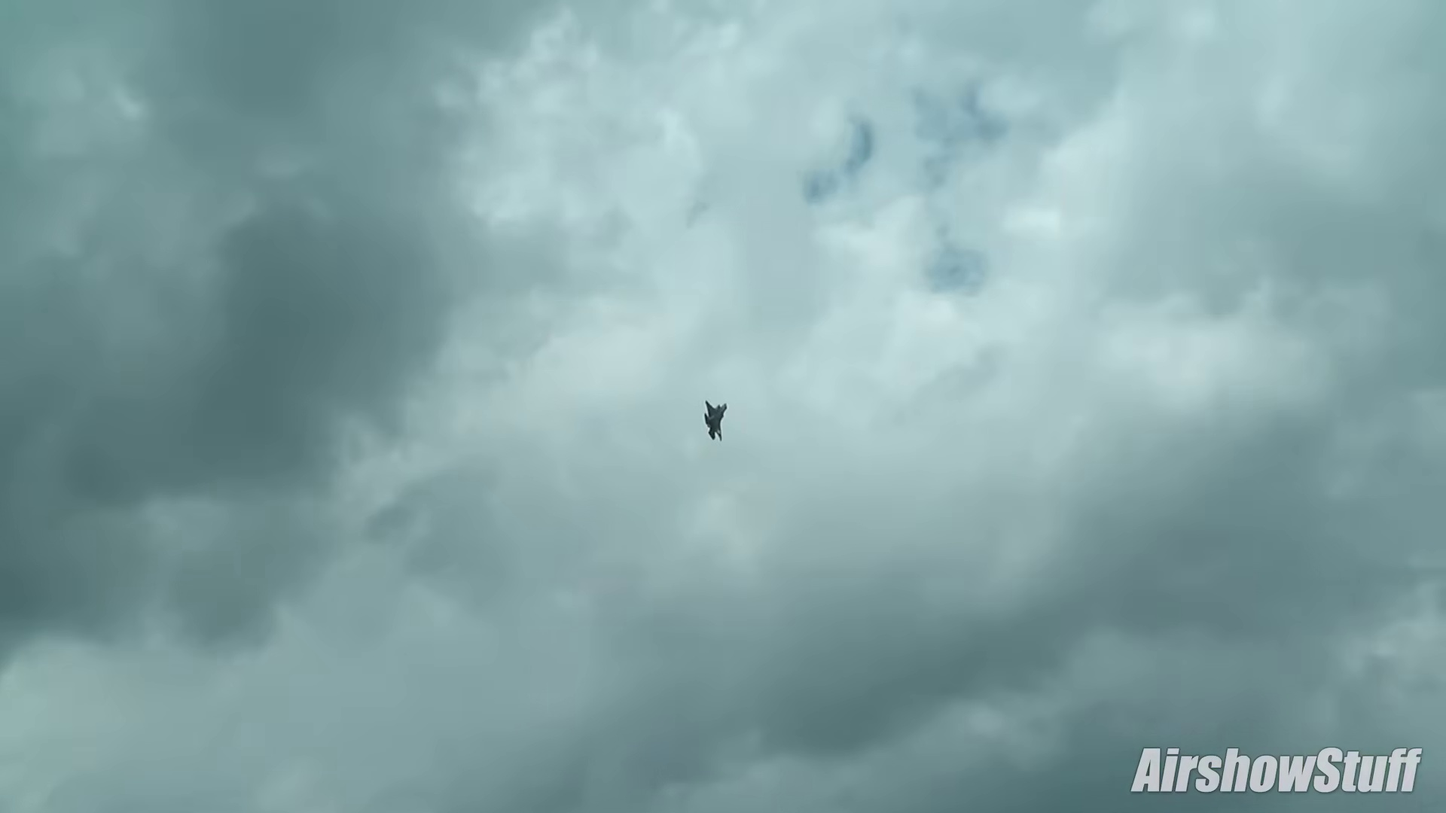F35: (697, 393, 733, 444)
